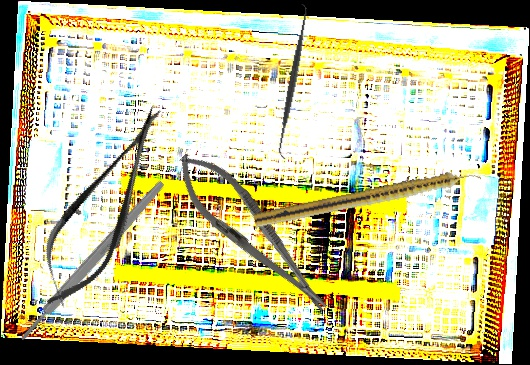Handpiece: (253, 165, 483, 233)
Micro Scissor: (17, 91, 191, 322)
Needle Holder: (163, 140, 342, 327)
Scalpel Handle: (17, 178, 167, 344)
Spatula Surgical: (269, 3, 317, 160)
